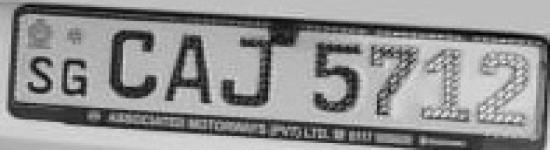1: (420, 44, 473, 123)
2: (473, 44, 532, 130)
5: (309, 38, 367, 119)
7: (369, 39, 422, 120)
A: (164, 25, 215, 105)
C: (107, 26, 163, 102)
G: (57, 52, 97, 97)
J: (217, 34, 277, 111)
S: (24, 51, 56, 96)
